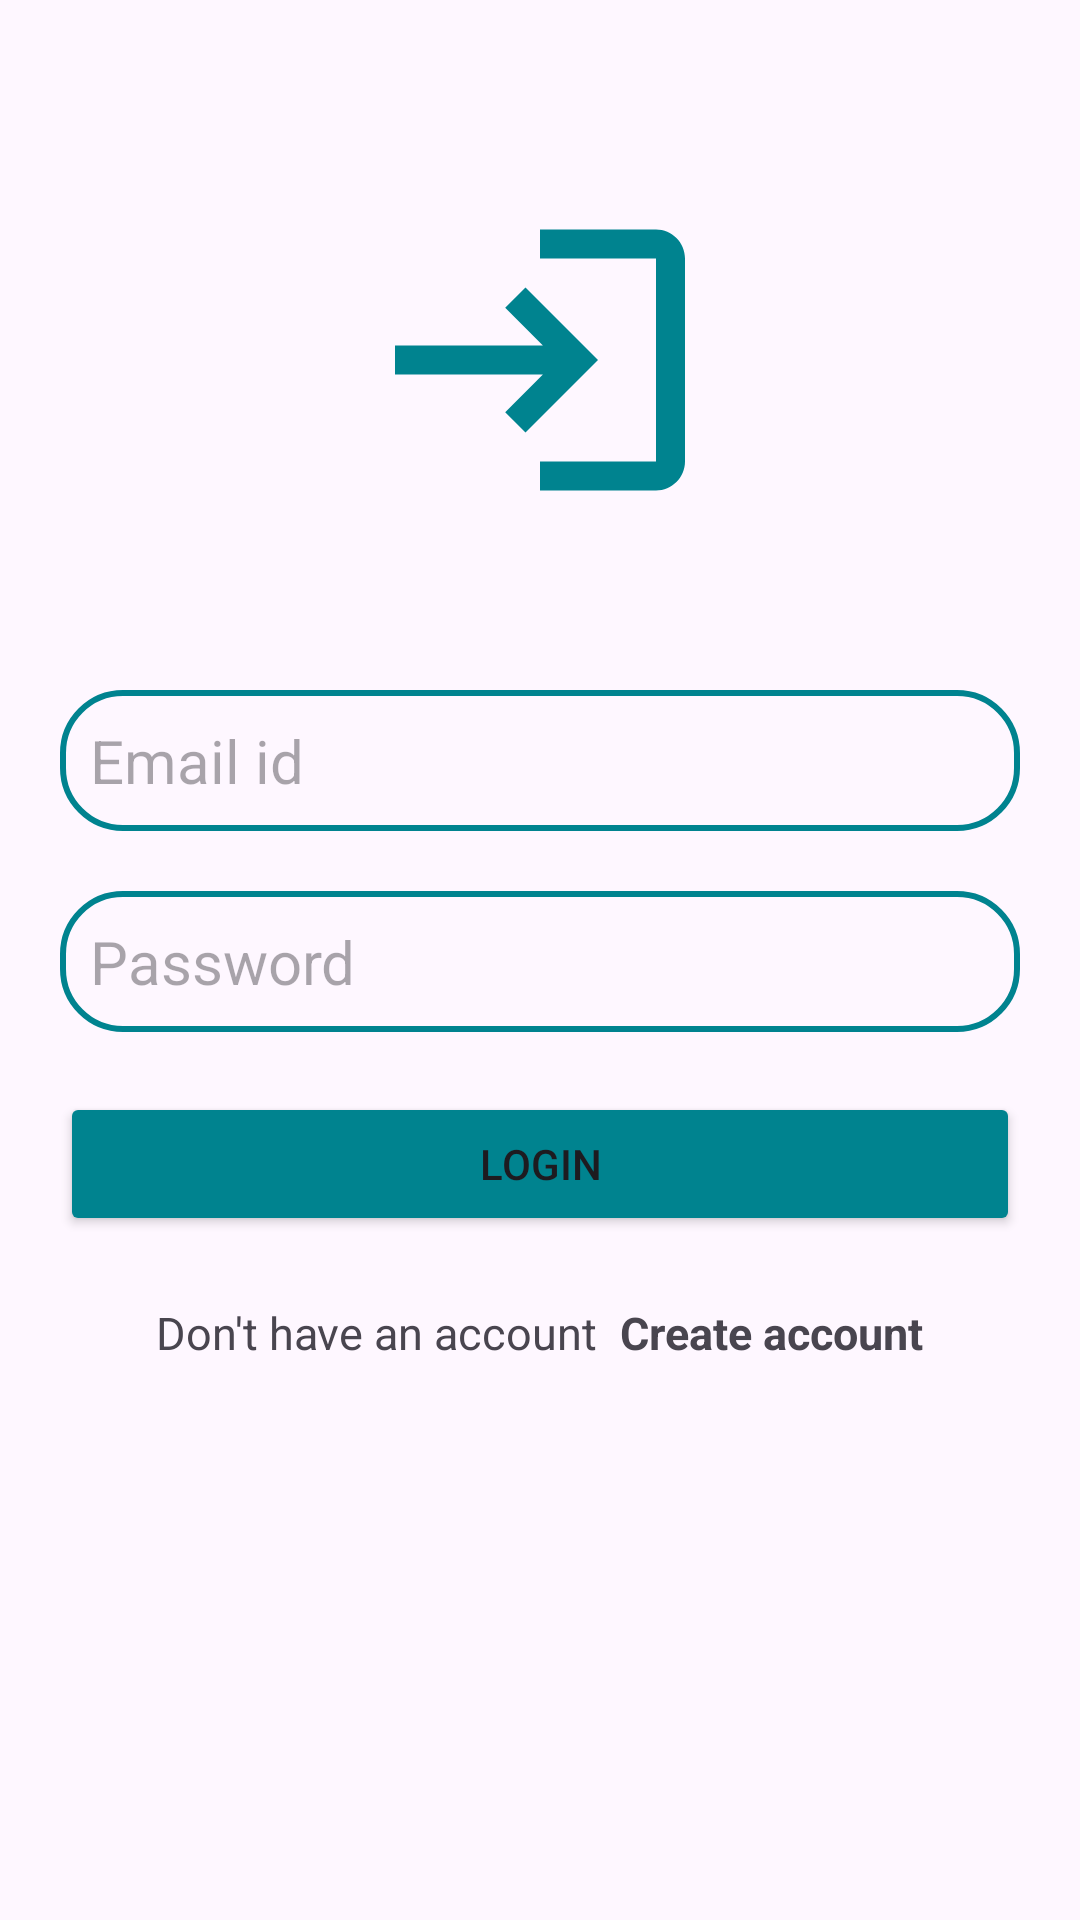

Icon click points for this 1080 × 1920 phone screenshot, format (x=x, y=y):
login: (x=540, y=360)
